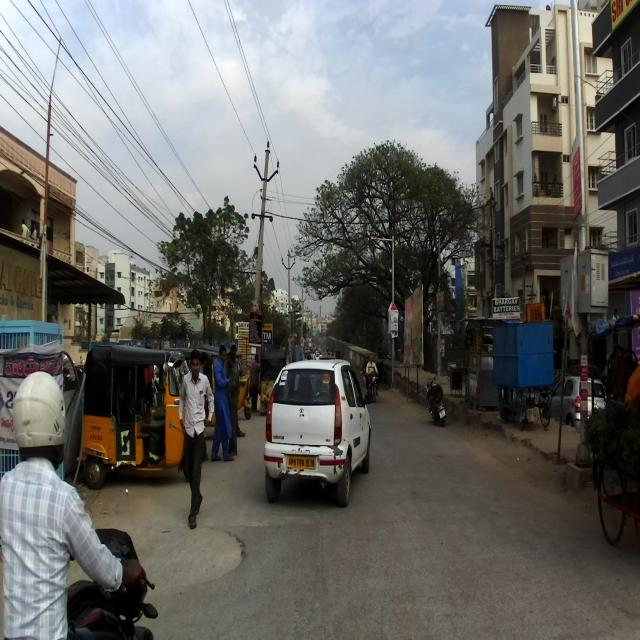auto ahead at: (80, 337, 181, 490)
car ahead at: (263, 354, 372, 507)
person ahead at: (180, 352, 218, 534)
